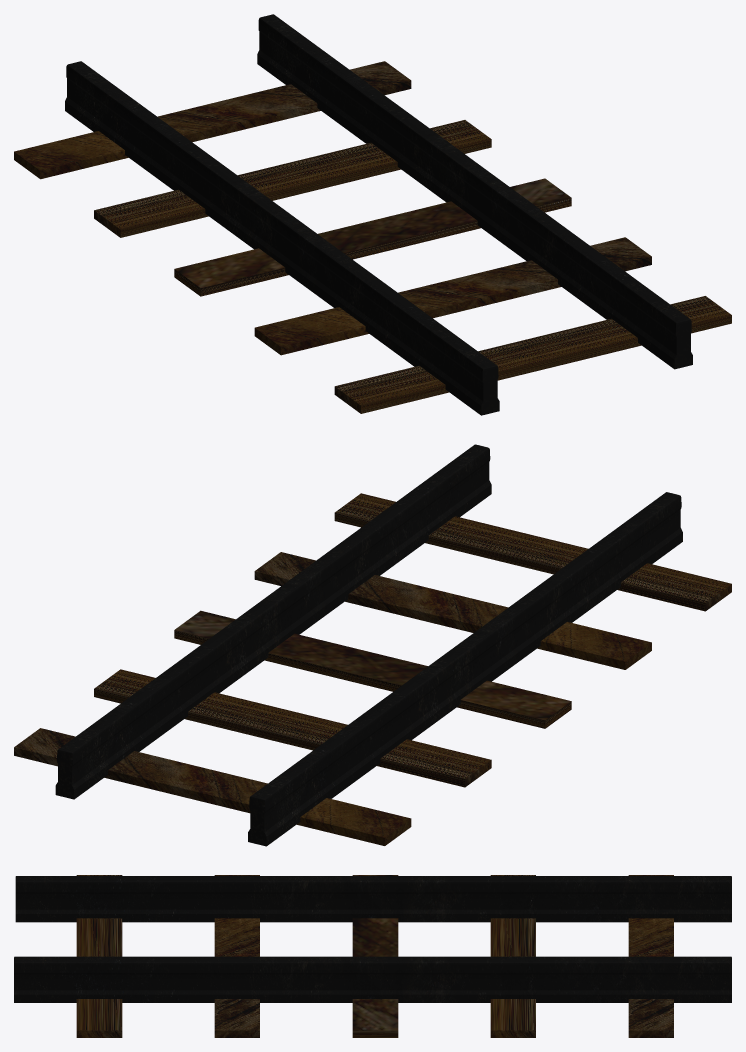
The model's file is track straight(short).fbx.
The picture shows the model from 3 angles, top to bottom: view 1: azimuth 30°, elevation 25°; view 2: azimuth 150°, elevation 25°; view 3: azimuth 270°, elevation 25°; orthographic projection. The views are drawn at different scales.
Visible parts, largest first — view 1: polySurface126; view 2: polySurface126; view 3: polySurface126.
Boxes of the visible parts, <box> form: polySurface126: <box>14,14,731,415</box>; polySurface126: <box>14,444,731,846</box>; polySurface126: <box>14,875,731,1037</box>.
Size of the model in its own units: 6.93 by 0.8958 by 13.51.
Materials: 1 (1 with a texture image).
